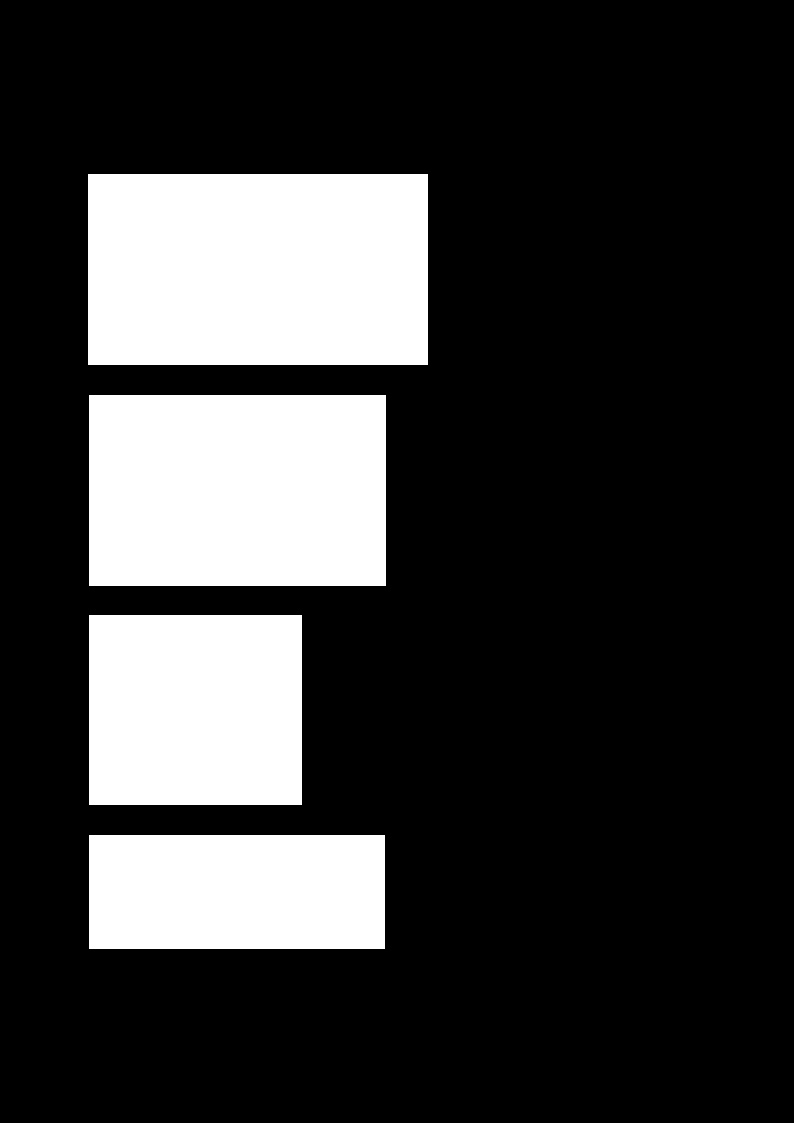table: (88, 174, 427, 364), (89, 395, 385, 585), (89, 615, 301, 804), (89, 835, 384, 948)
